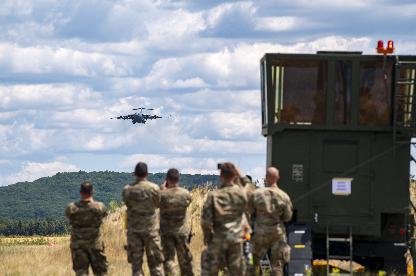C2: (108, 106, 170, 123)
